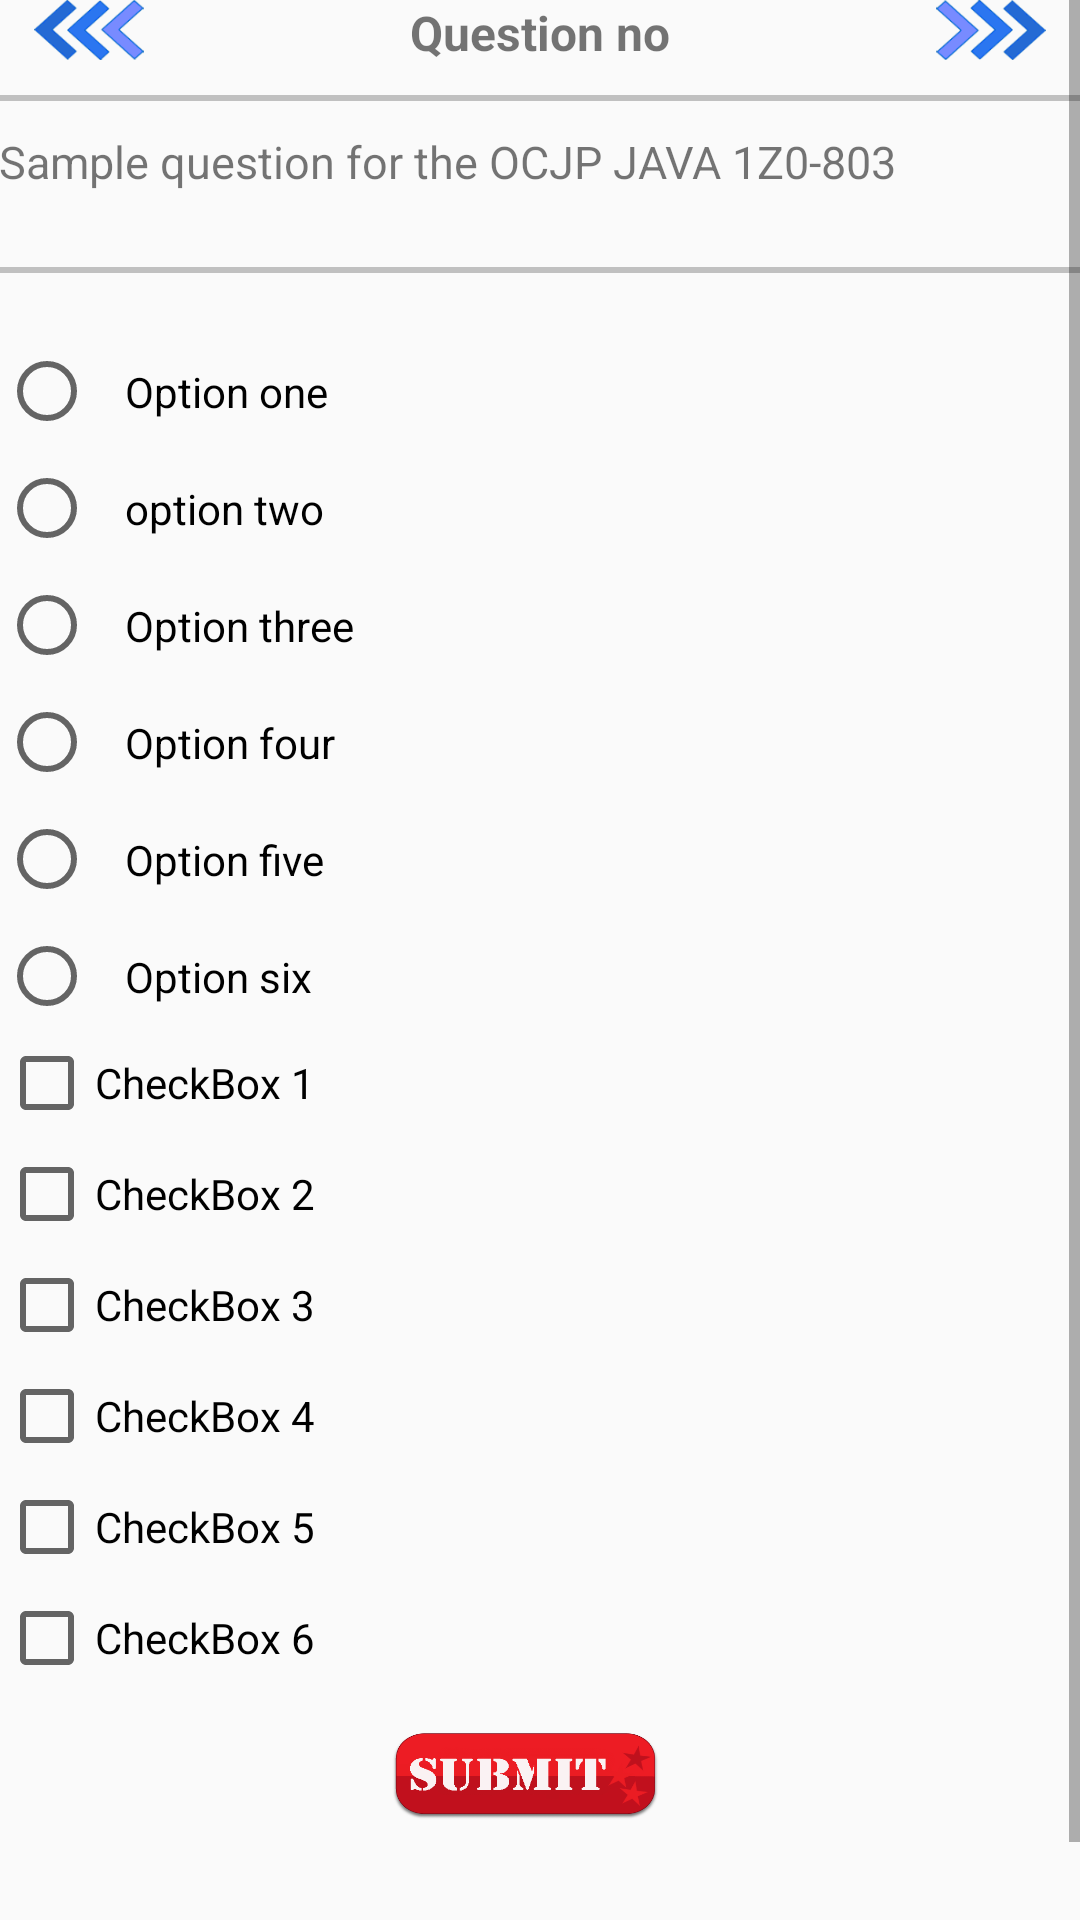

Screen size 1080 x 1920. Icon name, then its box in pixels as [x1,y1,x2,y2]:
next: [936,0,1046,60]
pre: [34,0,144,60]
